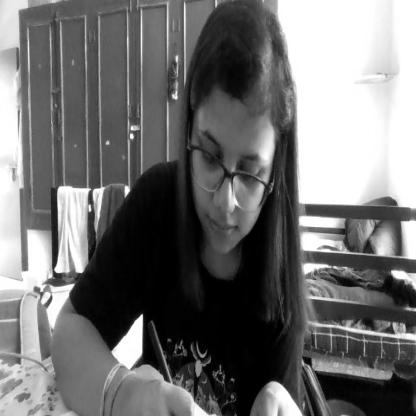Normal: (180, 0, 286, 246)
